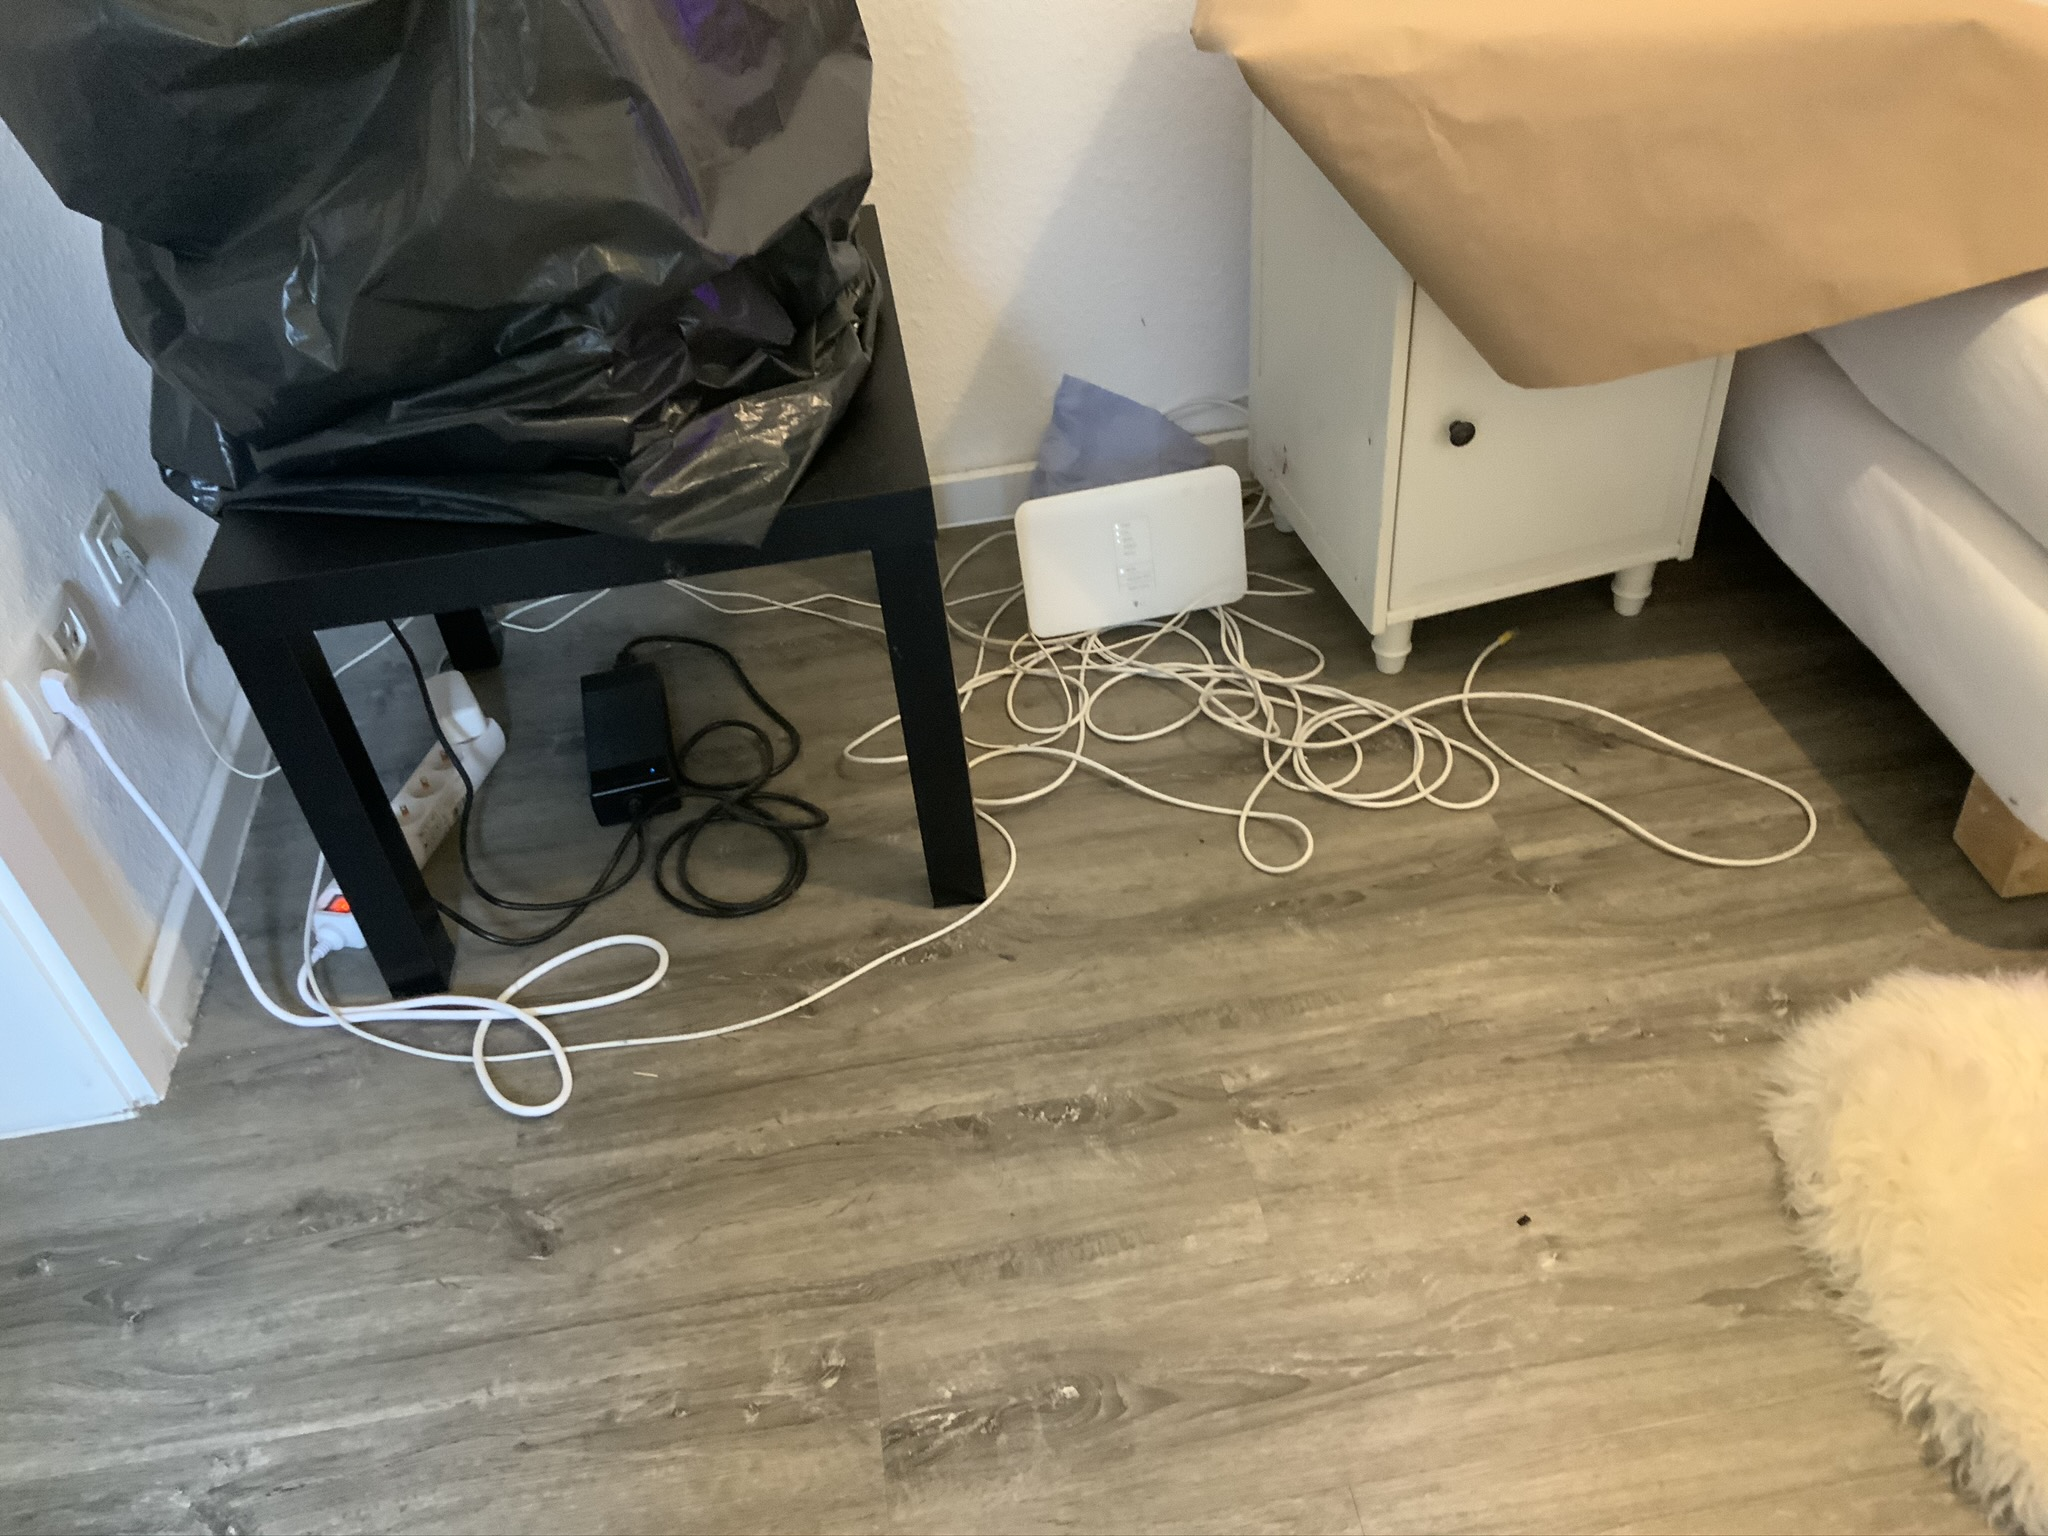router: (1006, 465, 1258, 637)
